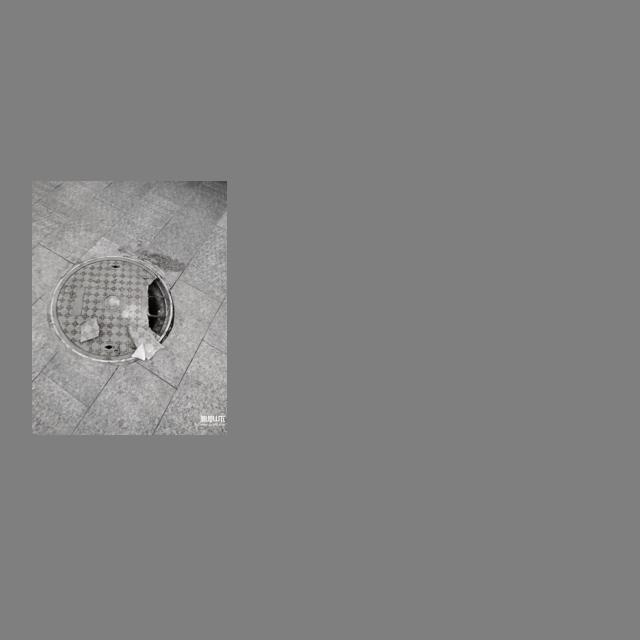broke: (47, 249, 185, 372)
